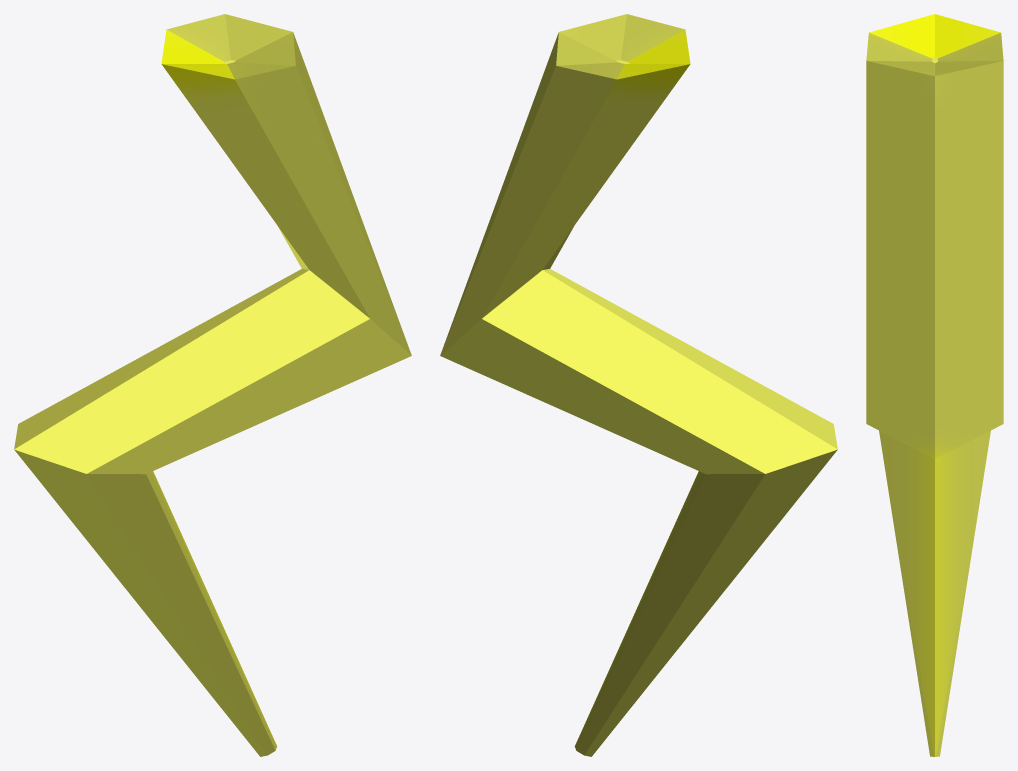
Rendered from Bolt.fbx.
3 views of the same model, side by side, from view 1: azimuth 30°, elevation 25°; view 2: azimuth 150°, elevation 25°; view 3: azimuth 270°, elevation 25° (orthographic). The views are drawn at different scales.
Parts seen in each view (by area): view 1: Cube; view 2: Cube; view 3: Cube.
Boxes of the visible parts, box(x1,y1,x2,y2) form: Cube: box(14, 14, 411, 756); Cube: box(440, 14, 837, 756); Cube: box(866, 14, 1003, 756).
Size of the model in its own units: 318 by 566 by 101.
Materials: 1 (1 with a texture image).
